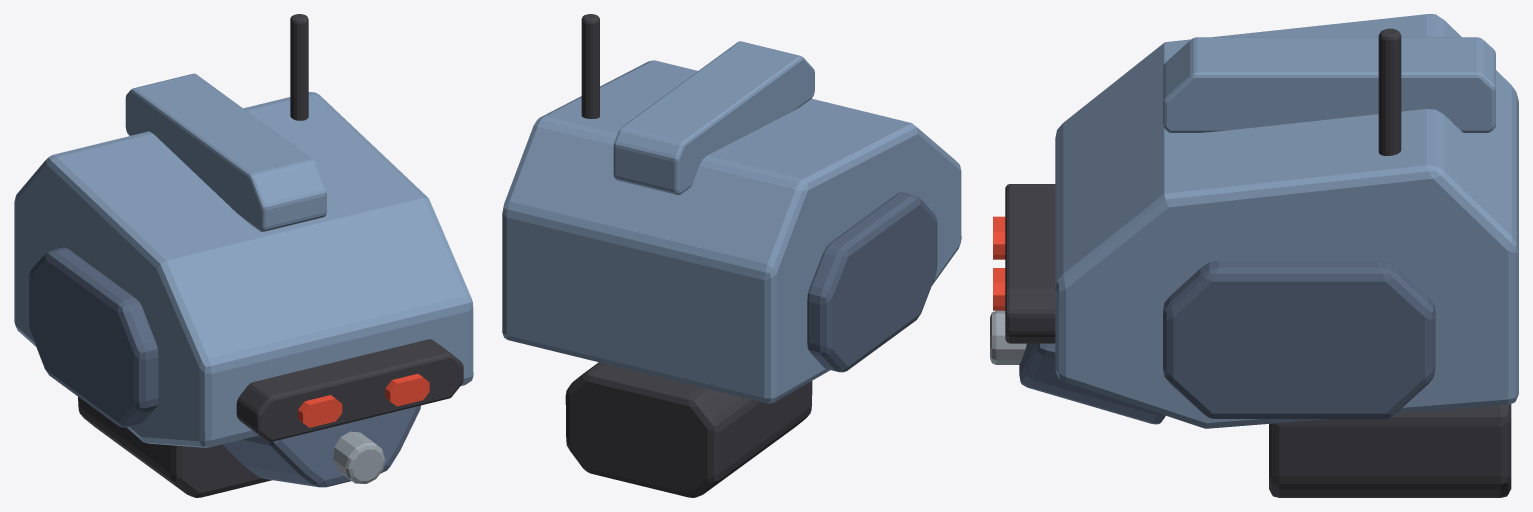
The model's file is recon_accurate_head.glb.
3 views of the same model, side by side, from view 1: azimuth 30°, elevation 25°; view 2: azimuth 150°, elevation 25°; view 3: azimuth 270°, elevation 25° (orthographic). The views are drawn at different scales.
Parts seen in each view (by area): view 1: Helmet, Crest, HelmetSideR, Visor, Chin, Neck, Lens, Aerial, Eye, Eye1; view 2: Helmet, Neck, Crest, HelmetSideR, Aerial; view 3: Helmet, HelmetSideL, Crest, Neck, Visor, Chin, Aerial, Lens, Eye1.
Boxes of the visible parts, x1,y1,x2,y2 form: Helmet: (14, 92, 473, 447); Crest: (125, 73, 326, 231); HelmetSideR: (28, 247, 158, 427); Visor: (236, 339, 463, 441); Chin: (222, 405, 420, 487); Neck: (78, 397, 272, 497); Lens: (333, 431, 385, 483); Aerial: (290, 14, 308, 120); Eye: (385, 373, 429, 406); Eye1: (298, 395, 342, 427); Helmet: (502, 60, 961, 403); Neck: (565, 362, 812, 497); Crest: (613, 41, 814, 194); HelmetSideR: (807, 192, 937, 372); Aerial: (581, 14, 599, 118); Helmet: (1055, 14, 1518, 428); HelmetSideL: (1163, 261, 1435, 418); Crest: (1163, 37, 1495, 132); Neck: (1269, 404, 1511, 497); Visor: (1005, 184, 1055, 343); Chin: (1019, 343, 1165, 424); Aerial: (1378, 28, 1401, 155); Lens: (990, 310, 1026, 364); Eye1: (993, 216, 1005, 259).
Bounding box in the file's own units: 1.44 × 1.8 × 1.75.
